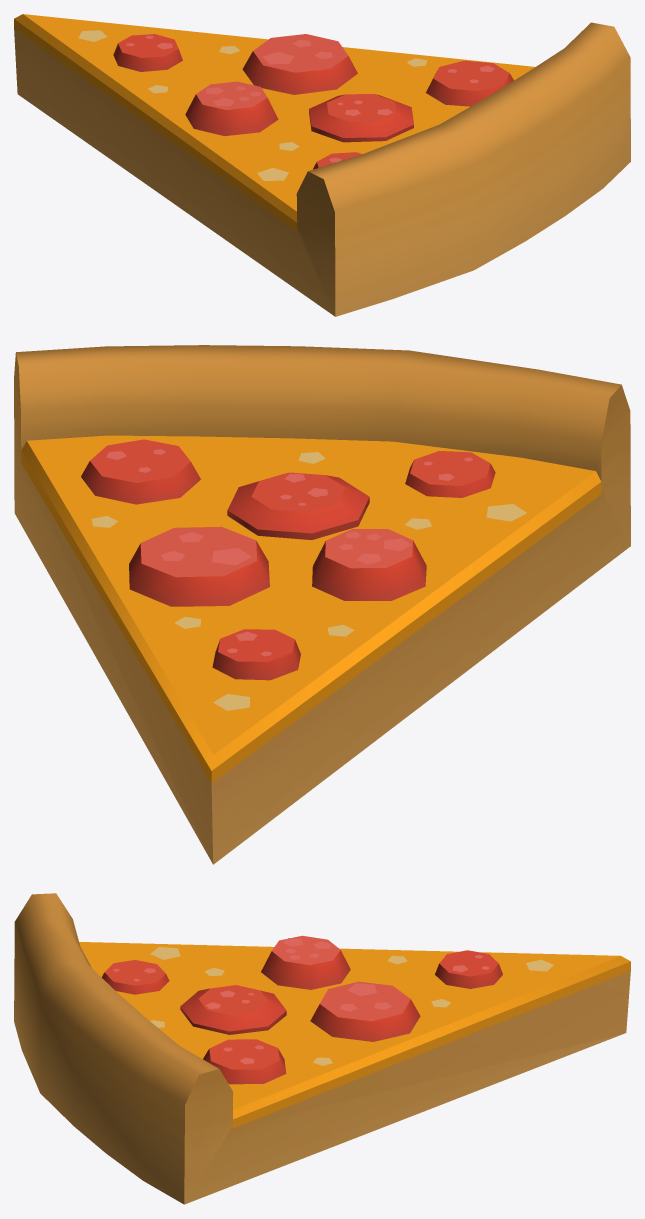
The model's file is PizzaSlice_B.fbx.
3 renders of one model, top to bottom at view 1: azimuth 30°, elevation 25°; view 2: azimuth 150°, elevation 25°; view 3: azimuth 270°, elevation 25°, orthographic. The views are drawn at different scales.
Visible parts, largest first — view 1: PizzaSlice_B; view 2: PizzaSlice_B; view 3: PizzaSlice_B.
Boxes of the visible parts, bbox=[...] form: PizzaSlice_B: bbox=[14, 14, 630, 316]; PizzaSlice_B: bbox=[14, 345, 630, 864]; PizzaSlice_B: bbox=[14, 893, 630, 1204].
Bounding box in the file's own units: 18.48 × 6.42 × 26.24.
